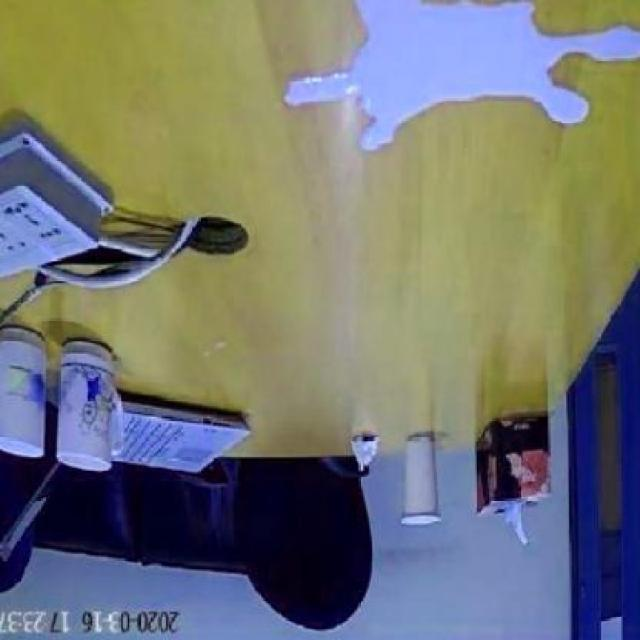spillage: (283, 0, 640, 151)
